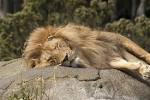lion: (27, 17, 150, 81)
